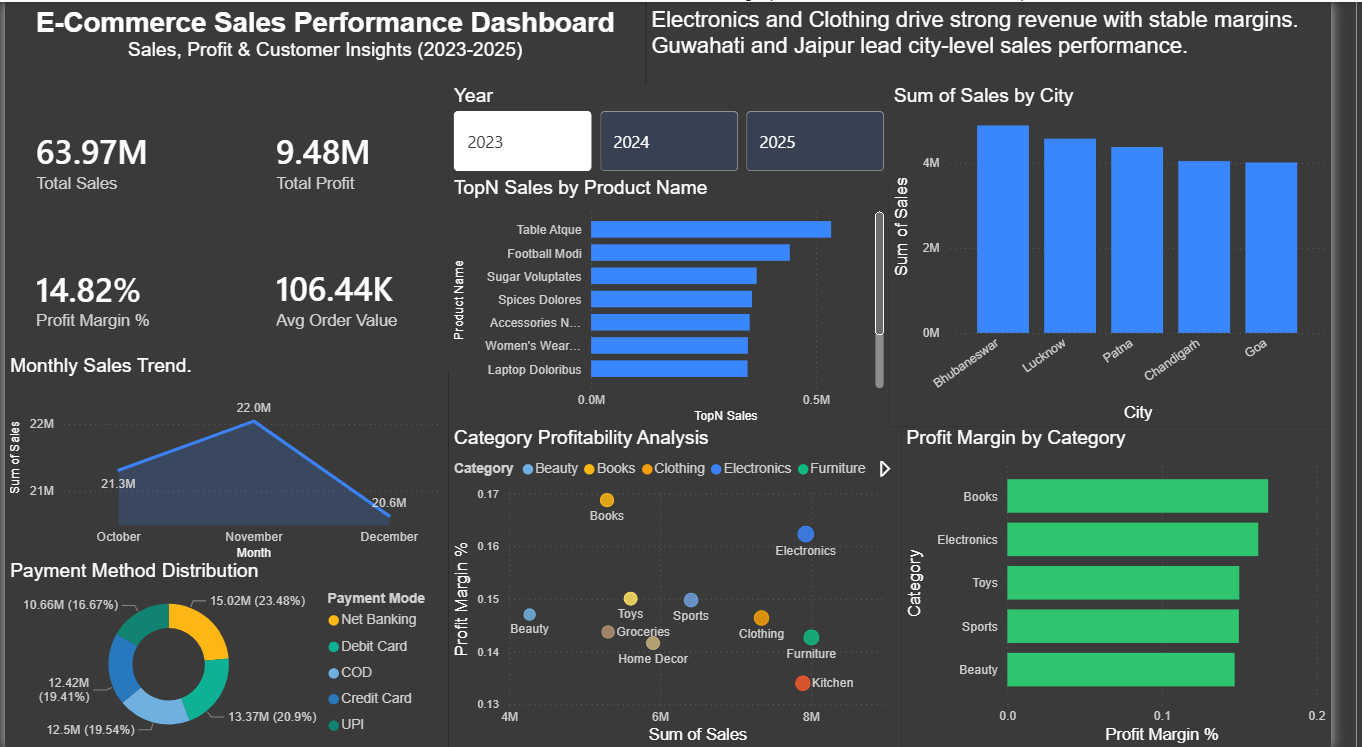

The dashboard page shown, as its layout file describes it:
{"tool":"powerbi","page":{"name":"Page 2","canvas":[1280,720],"ordinal":0},"visuals":[{"type":"textbox","box":[0,0,618.3,80],"z":0},{"type":"advancedSlicerVisual","fields":{"Values":["Ecommerce_Sales_Data_2024_2025.Order Date.Variation.Date Hierarchy.Year"]},"box":[428.3,79.6,425.9,89.3],"z":1000},{"type":"cardVisual","title":"Total Sales","fields":{"Data":["DateTable.Total Sales"]},"box":[0,80,231.7,145],"z":2000},{"type":"cardVisual","fields":{"Data":["DateTable.Total Profit"]},"box":[231.7,80,196.7,145],"z":3000},{"type":"cardVisual","fields":{"Data":["DateTable.Profit Margin %"]},"box":[0,210,231.7,150],"z":4000},{"type":"cardVisual","fields":{"Data":["DateTable.Average Order Value"]},"box":[231.7,210,196.7,148.3],"z":5000},{"type":"barChart","fields":{"Category":["Ecommerce_Sales_Data_2024_2025.Product Name"],"Y":["DateTable.TopN Sales"]},"box":[428.3,168.3,425,241.7],"z":6000},{"type":"lineChart","title":"Monthly Sales Trend.","fields":{"Category":["Ecommerce_Sales_Data_2024_2025.Order Date.Variation.Date Hierarchy.Month"],"Y":["Sum(Ecommerce_Sales_Data_2024_2025.Sales)"]},"box":[0,340.2,428.3,202.7],"z":7000},{"type":"clusteredBarChart","title":"Profit Margin by Category","fields":{"Category":["Ecommerce_Sales_Data_2024_2025.Category"],"Y":["DateTable.Profit Margin %"]},"box":[865,410.2,415,310.1],"z":8000},{"type":"donutChart","title":"Payment Method Distribution","fields":{"Category":["Ecommerce_Sales_Data_2024_2025.Payment Mode"],"Y":["Sum(Ecommerce_Sales_Data_2024_2025.Sales)"]},"box":[0,538.3,428.3,181.7],"z":9000},{"type":"clusteredColumnChart","fields":{"Y":["Sum(Ecommerce_Sales_Data_2024_2025.Sales)"],"Category":["Ecommerce_Sales_Data_2024_2025.City"]},"box":[853,79.6,427.1,330.6],"z":10000},{"type":"scatterChart","title":"Category Profitability Analysis","fields":{"X":["Sum(Ecommerce_Sales_Data_2024_2025.Sales)"],"Y":["DateTable.Profit Margin %"],"Size":["Sum(Ecommerce_Sales_Data_2024_2025.Profit)"],"Series":["Ecommerce_Sales_Data_2024_2025.Category"]},"box":[428.3,410,436.7,310],"z":11000},{"type":"textbox","box":[618.3,0,661.7,80],"z":12000}]}

Visuals, with their boxes in screenshot pixels (x1, y1, x2, y2), scaled from the page's 1280x720 canvas onto the 1362x747 screenshot:
textbox: pyautogui.locateOnScreen(0, 0, 658, 83)
advancedSlicerVisual - Ecommerce_Sales_Data_2024_2025.Order Date.Variation.Date Hierarchy.Year: pyautogui.locateOnScreen(456, 83, 909, 175)
"Total Sales" cardVisual: pyautogui.locateOnScreen(0, 83, 247, 233)
cardVisual - DateTable.Total Profit: pyautogui.locateOnScreen(247, 83, 456, 233)
cardVisual - DateTable.Profit Margin %: pyautogui.locateOnScreen(0, 218, 247, 374)
cardVisual - DateTable.Average Order Value: pyautogui.locateOnScreen(247, 218, 456, 372)
barChart - Ecommerce_Sales_Data_2024_2025.Product Name x DateTable.TopN Sales: pyautogui.locateOnScreen(456, 175, 908, 425)
"Monthly Sales Trend." lineChart: pyautogui.locateOnScreen(0, 353, 456, 563)
"Profit Margin by Category" clusteredBarChart: pyautogui.locateOnScreen(920, 426, 1361, 746)
"Payment Method Distribution" donutChart: pyautogui.locateOnScreen(0, 558, 456, 746)
clusteredColumnChart - Sum(Ecommerce_Sales_Data_2024_2025.Sales) x Ecommerce_Sales_Data_2024_2025.City: pyautogui.locateOnScreen(908, 83, 1361, 426)
"Category Profitability Analysis" scatterChart: pyautogui.locateOnScreen(456, 425, 920, 746)
textbox: pyautogui.locateOnScreen(658, 0, 1361, 83)
